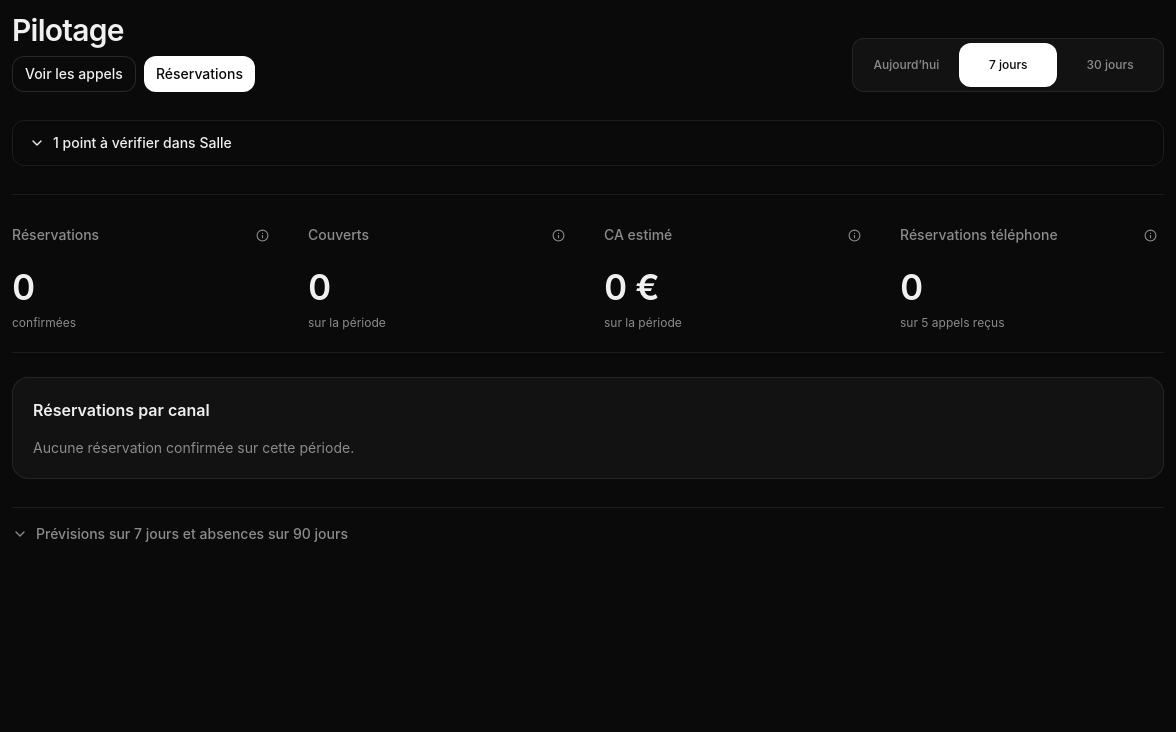
Scenario: Pilotage — situations de travail › les vrais points à vérifier se déplient sans occuper l’accueil
Click the heading "1 point à vérifier dans Salle" at (130, 142), box [29,134,232,151]
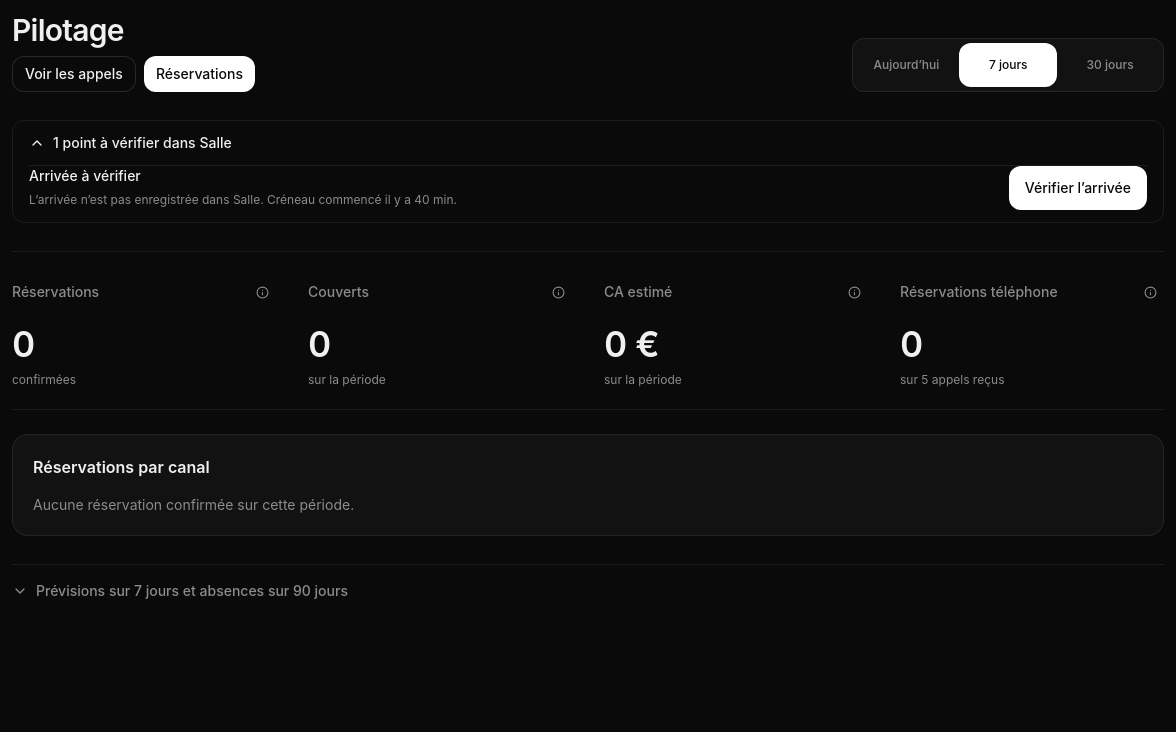
expect the heading "Arrivée à vérifier" is shown: met, box [29,167,141,184]
expect the text "Créneau commencé il y a 40 min" is shown: met, box [29,192,457,207]
